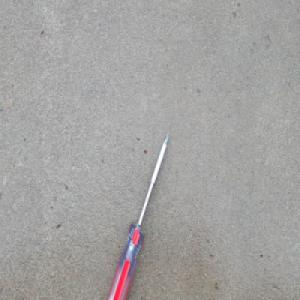Screwdriver: (104, 130, 170, 300)
